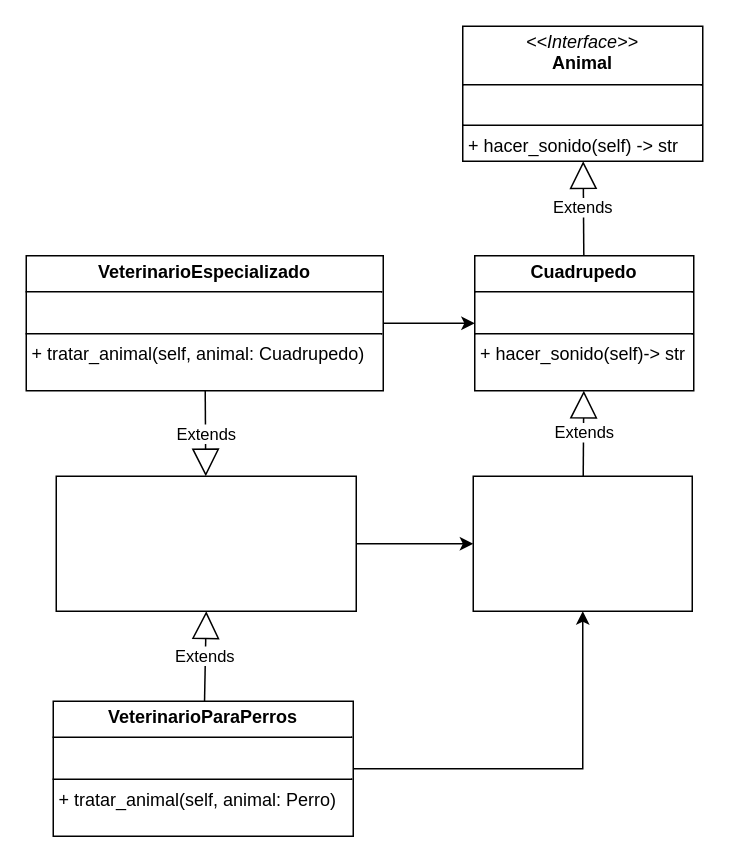
This 729x863 diagram has some shape labels left out. The shapes that lost their labels are listed below. From the top down, each one's box as (x1, y1, x2, y2) in pixels, then its label:
(55, 475, 356, 611): Veterinario + tratar_animal(self, animal: Perro)
(472, 475, 692, 611): Perro + hacer_sonido(self)-> str
